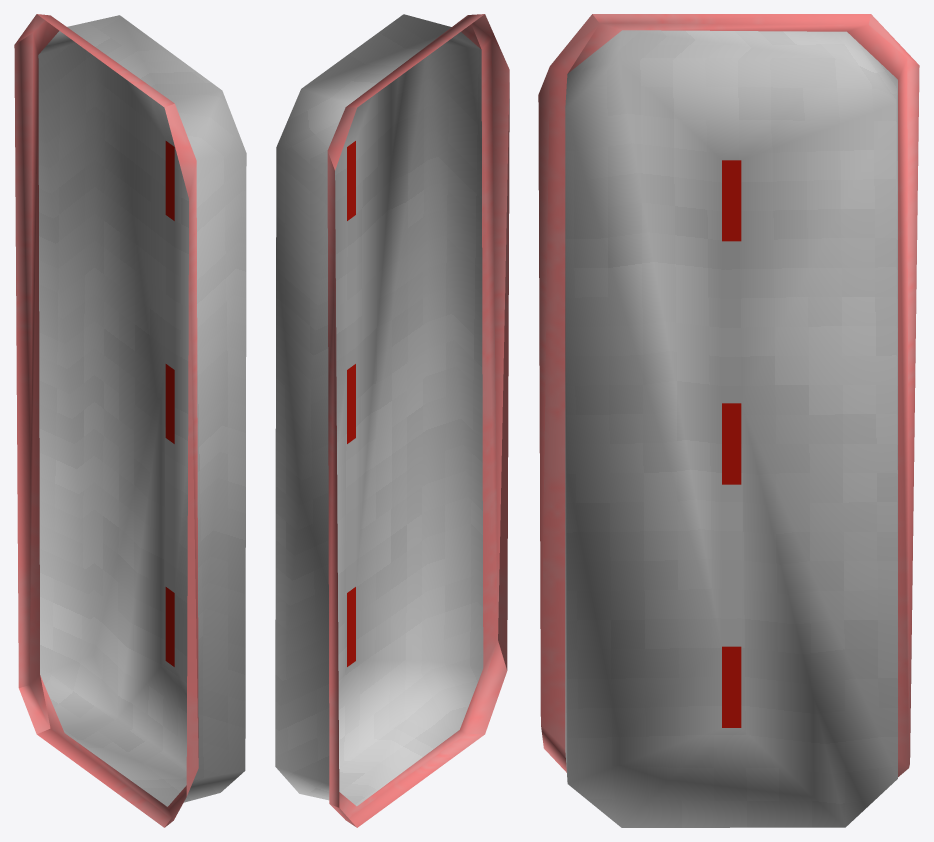
File: emitter.lod2.obj
The picture shows the model from 3 angles, left to right: view 1: azimuth 30°, elevation 25°; view 2: azimuth 150°, elevation 25°; view 3: azimuth 270°, elevation 25°; orthographic projection. The views are drawn at different scales.
Parts seen in each view (by area): view 1: Cube; view 2: Cube; view 3: Cube.
Boxes of the visible parts, <box> form: Cube: <box>14,14,246,827</box>; Cube: <box>275,14,509,827</box>; Cube: <box>538,14,919,827</box>.
Size of the model in its own units: 0.0981 by 0.9691 by 0.4259.
